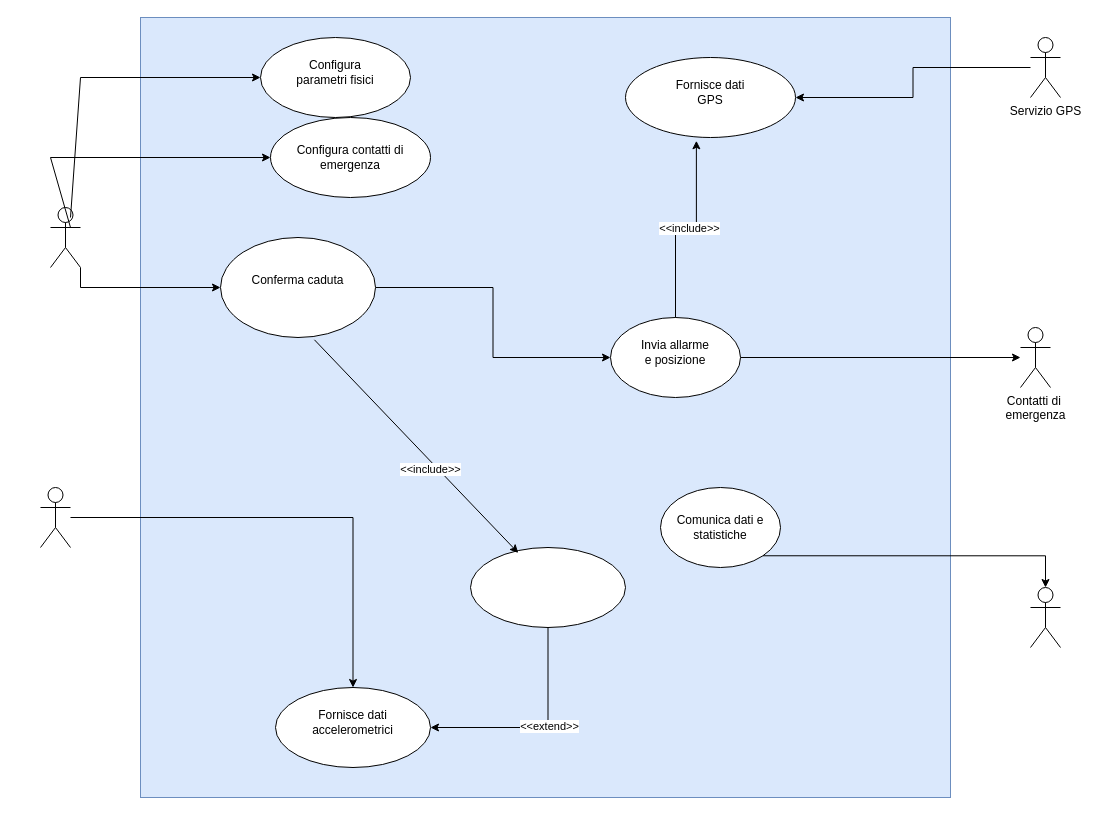
This 1111x815 diagram has some shape labels left out. The centre of each missing label's shape, as x and y in pixels:
"Accelerometro" belongs at [55,517].
"Centro di controllo" belongs at [1045,617].
"Rileva caduta" belongs at [548,587].
"Utente" belongs at [65,237].
